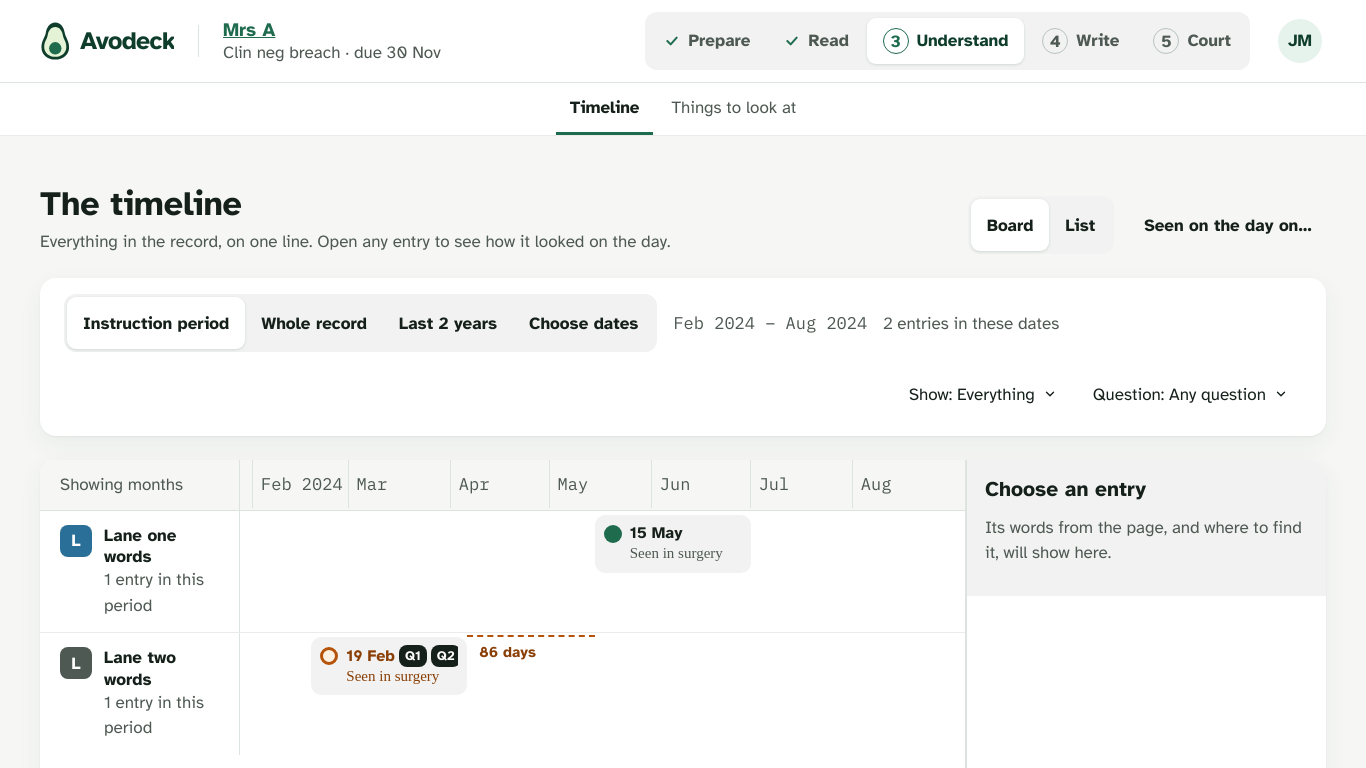
Test case: S11 lanes › choosing a question shows a 'Question N only' chip, and clearing it asks for every question
Click the button "Question: Any question" at (1190, 394), box 1079,368 -> 1302,420
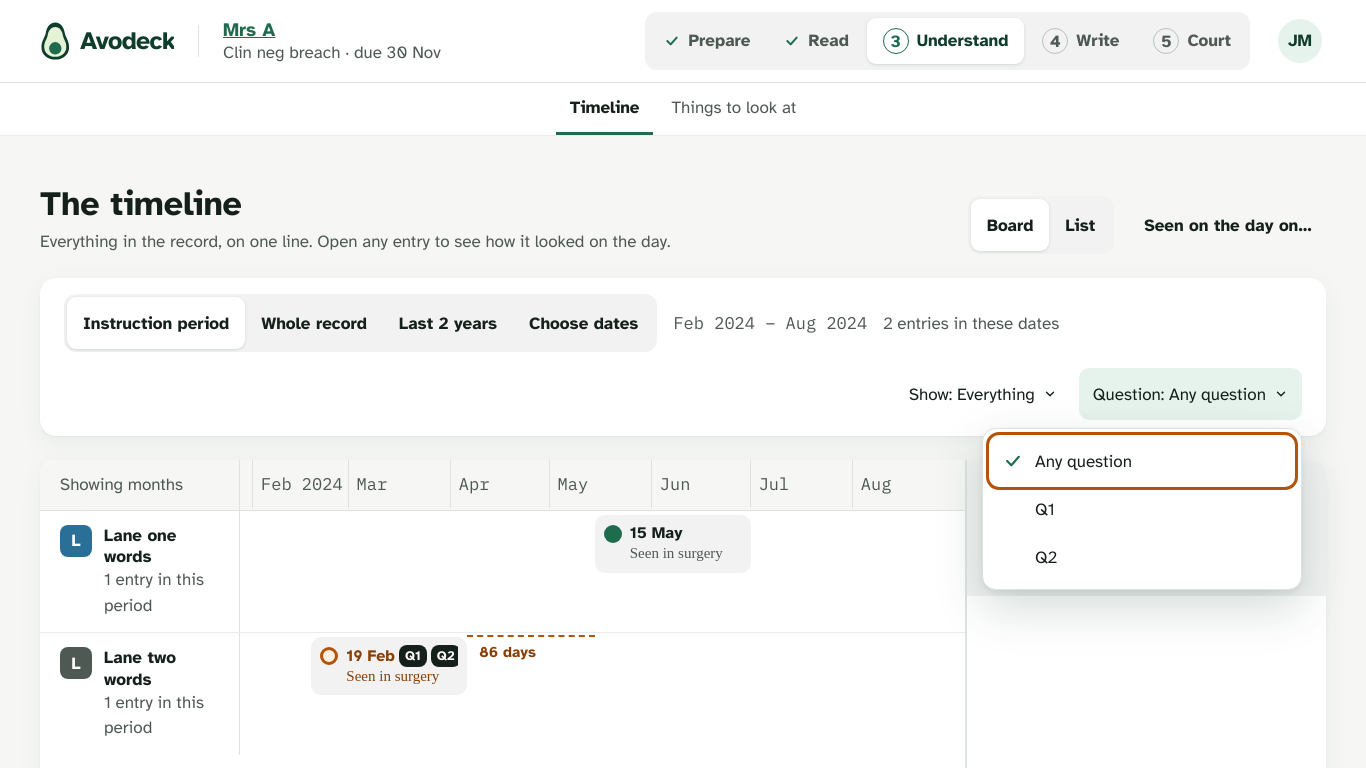
Expected: the text "Question 2 only" is not shown
Click the button "Q2" at (1046, 557), box 991,533 -> 1293,581
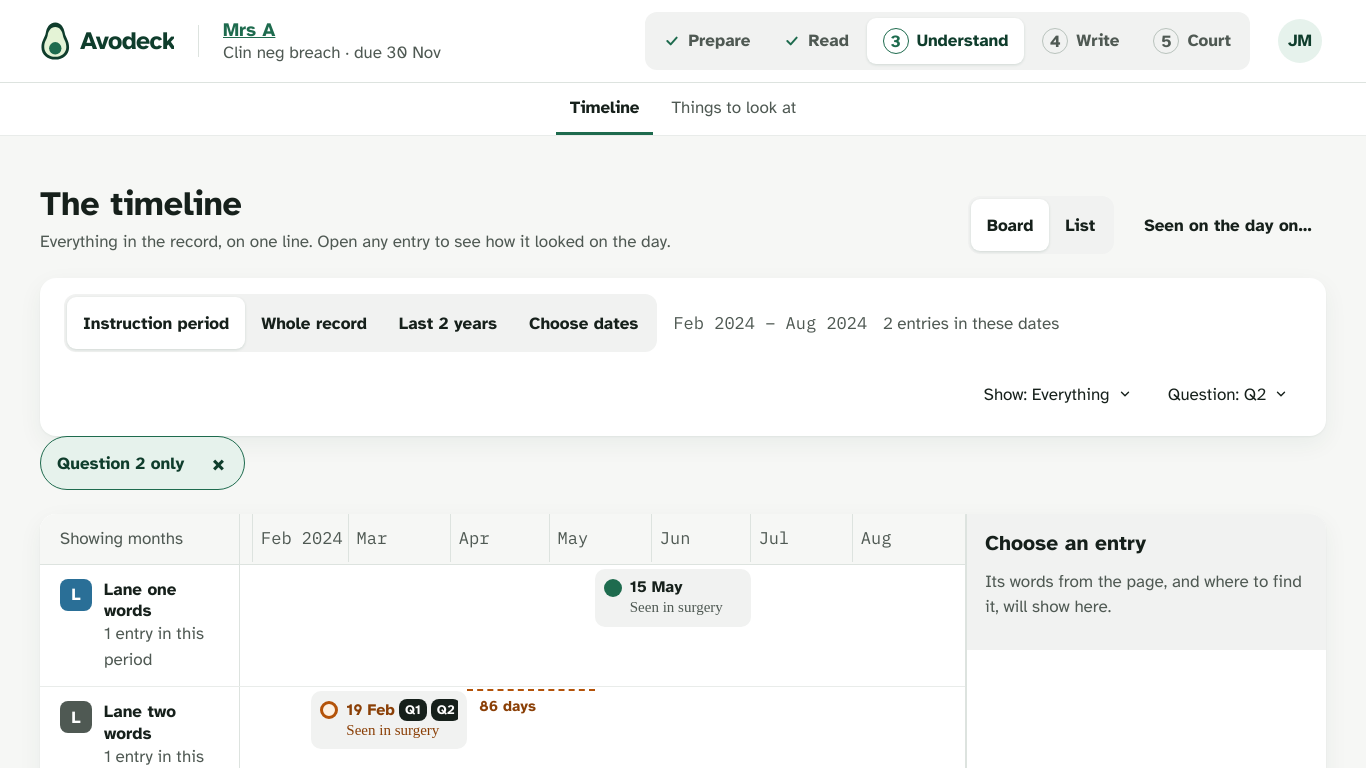
Expected: the text "Question 2 only" is shown, 57,452 -> 184,474
Click the button named "Show every question" at (218, 463), box 192,437 -> 244,489
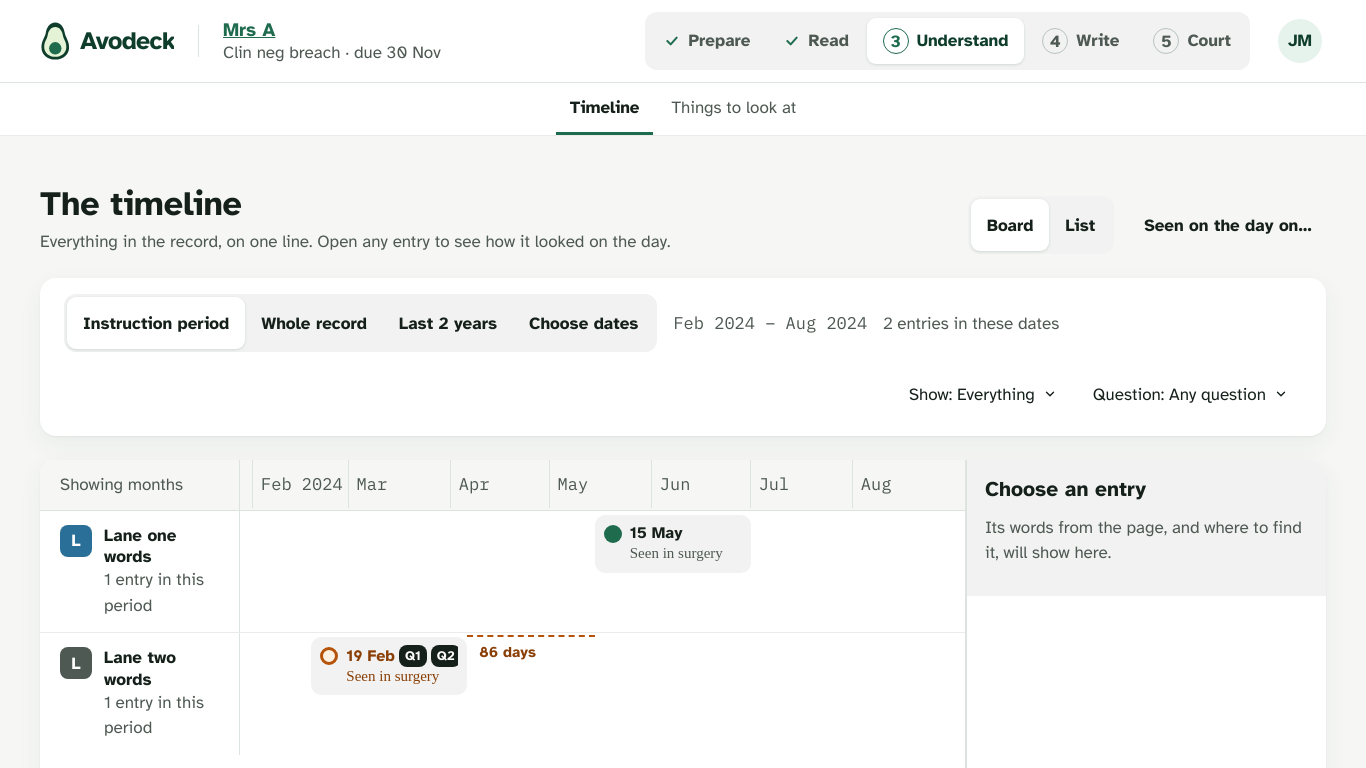
Expected: the text "Question 2 only" is gone
